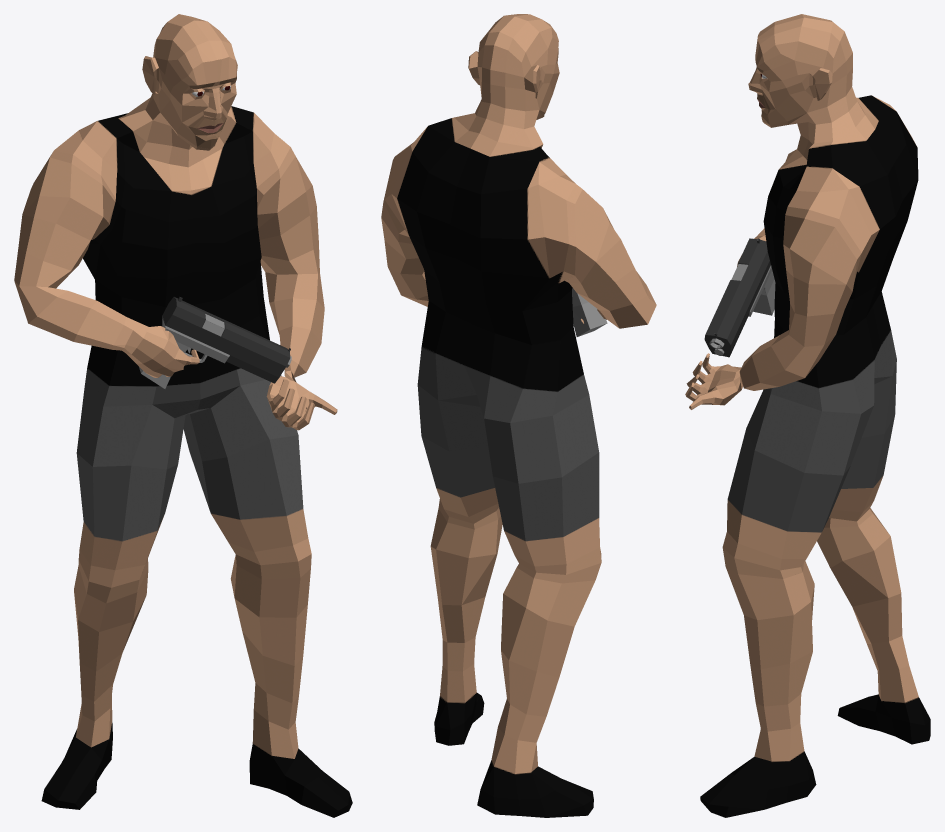
Rendered from PlayerIdle(203).obj.
3 views of the same model, side by side, from view 1: azimuth 30°, elevation 25°; view 2: azimuth 150°, elevation 25°; view 3: azimuth 270°, elevation 25° (orthographic). The views are drawn at different scales.
Visible parts, largest first — view 1: Plane002, Box003; view 2: Plane002, Box003; view 3: Plane002, Box003.
Part boxes in pixels (<box>): Plane002: <box>14,14,352,817</box>; Box003: <box>139,297,291,388</box>; Plane002: <box>381,14,656,817</box>; Box003: <box>572,288,607,336</box>; Plane002: <box>685,14,930,817</box>; Box003: <box>704,238,775,357</box>.
Size of the model in its own units: 682 by 1797 by 536.
